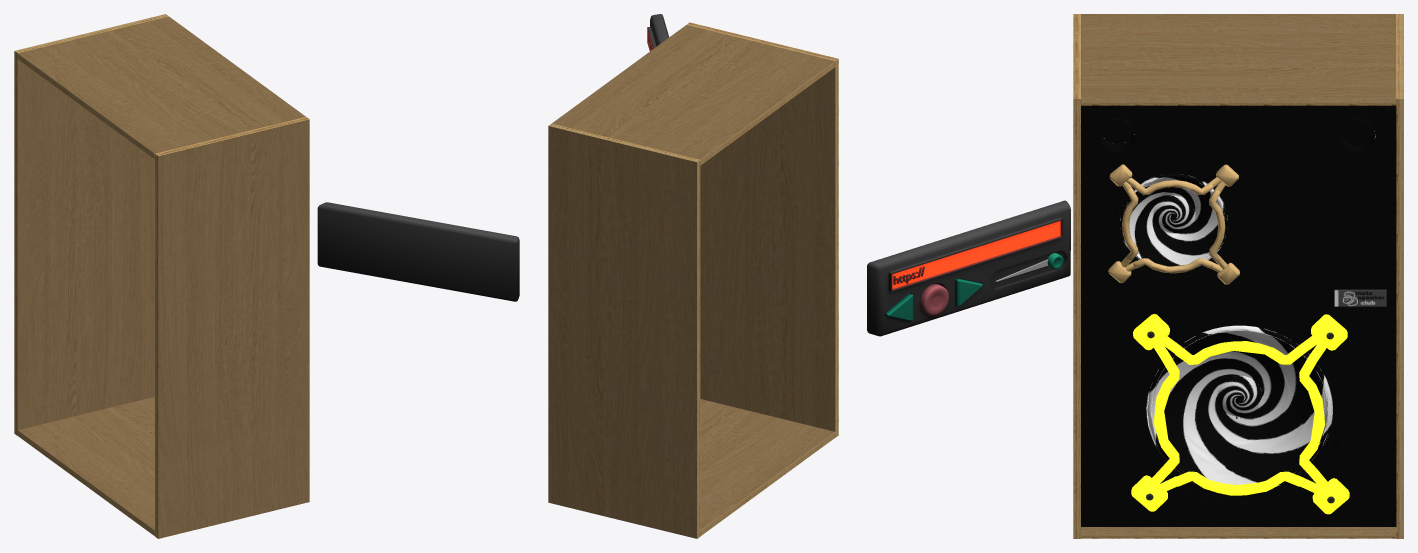
File: speaker_player.glb
3 views of the same model, side by side, from view 1: azimuth 30°, elevation 25°; view 2: azimuth 150°, elevation 25°; view 3: azimuth 270°, elevation 25° (orthographic). The views are drawn at different scales.
Visible parts, largest first — view 1: front plate.caixa1; view 2: front plate.caixa1; view 3: front plate.caixa1.
Part boxes in pixels (bbox=[...]): front plate.caixa1: bbox=[14, 14, 519, 538]; front plate.caixa1: bbox=[548, 14, 838, 538]; front plate.caixa1: bbox=[867, 14, 1403, 538].
Bounding box in the file's own units: 0.453 × 0.6006 × 0.6639.
Materials: 15 (8 with a texture image).
